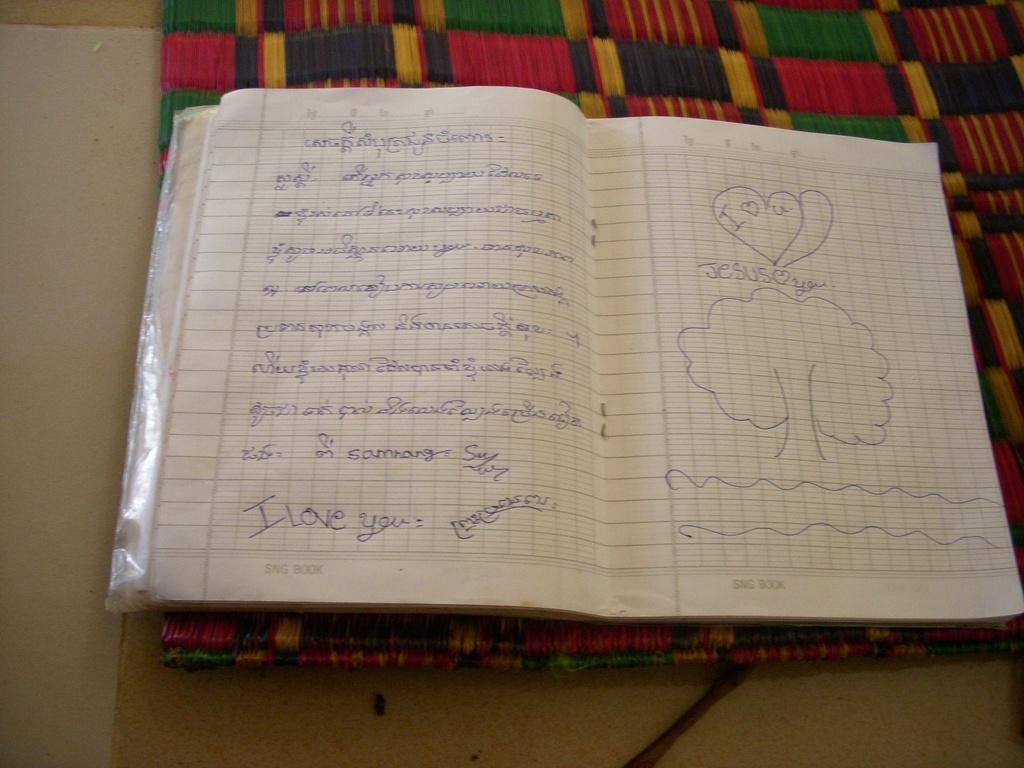book: (111, 91, 1023, 621)
